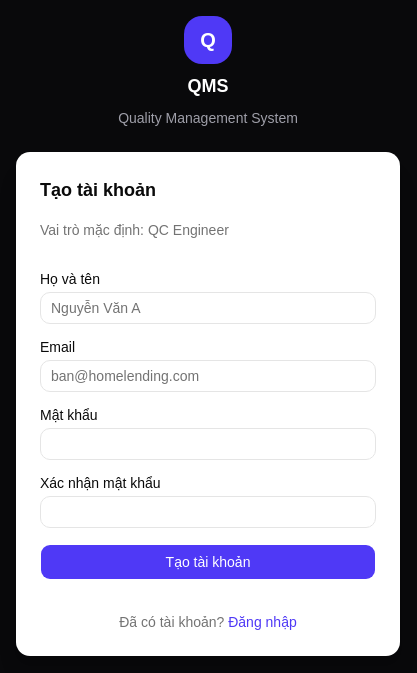
RegisterPage › shows a check-your-email confirmation instead of redirecting after success
Type "An Nguyen" into the field labelled "Họ và tên" at (208, 308), box top-left (40, 292), bottom-right (376, 324)
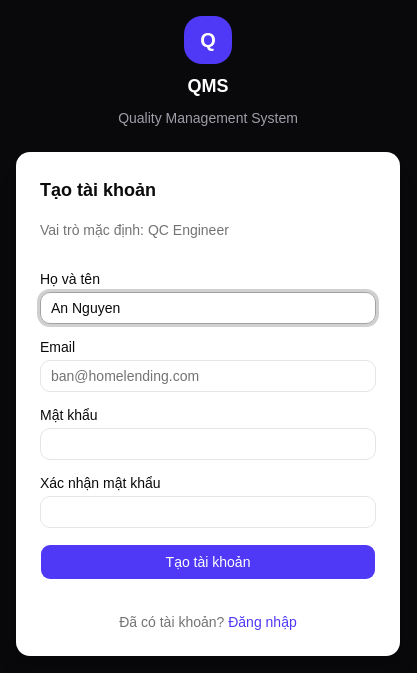
Type "an@example.com" into the field labelled "Email" at (208, 376), box top-left (40, 360), bottom-right (376, 392)
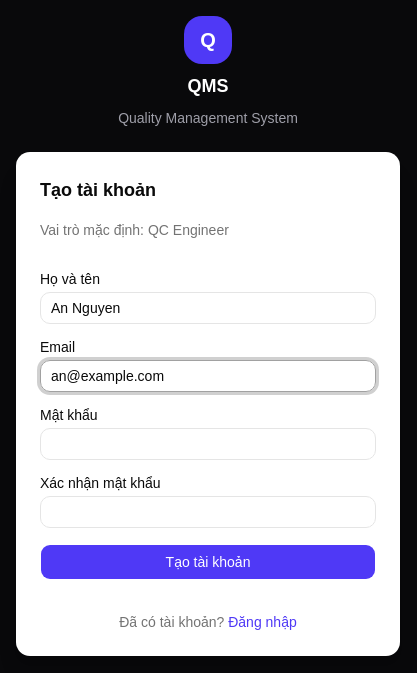
Type "password123" into the password field labelled "Mật khẩu" at (208, 444), box top-left (40, 428), bottom-right (376, 460)
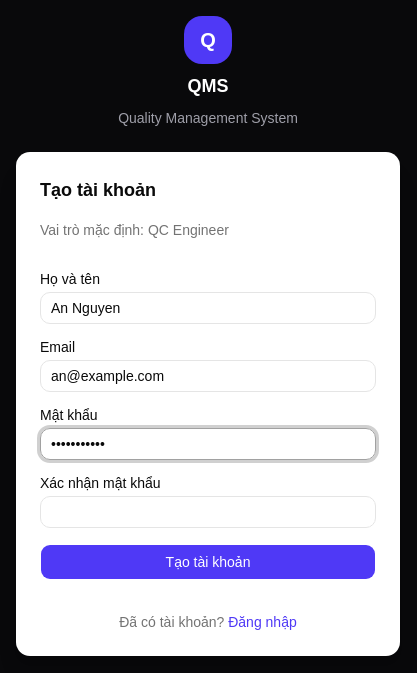
Type "password123" into the password field labelled "Xác nhận mật khẩu" at (208, 512), box top-left (40, 496), bottom-right (376, 528)
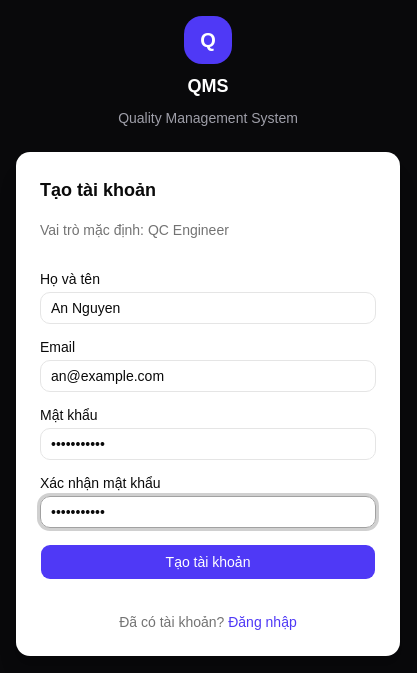
Click the button "Tạo tài khoản" at (208, 562), box top-left (40, 544), bottom-right (376, 580)
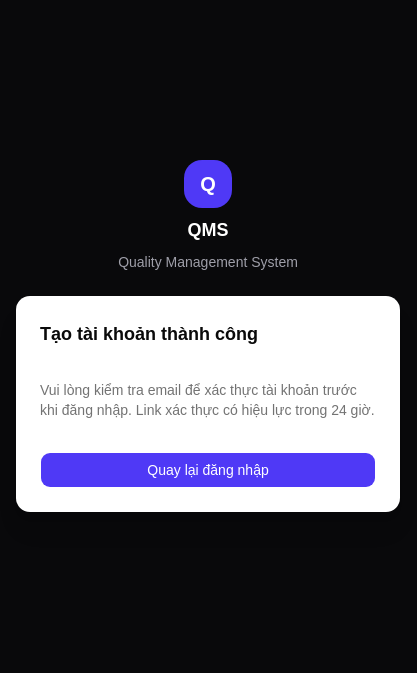
expect the text "kiểm tra email" is shown: met, box top-left (40, 382), bottom-right (375, 418)
